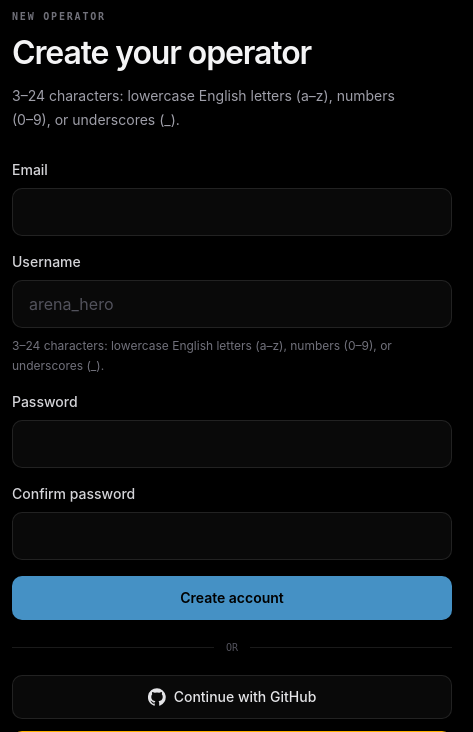
Test: password confirmation › requires matching passwords when registering
Type "player@example.com" into the field labelled "Email" at (232, 212), box 12,188 -> 452,236
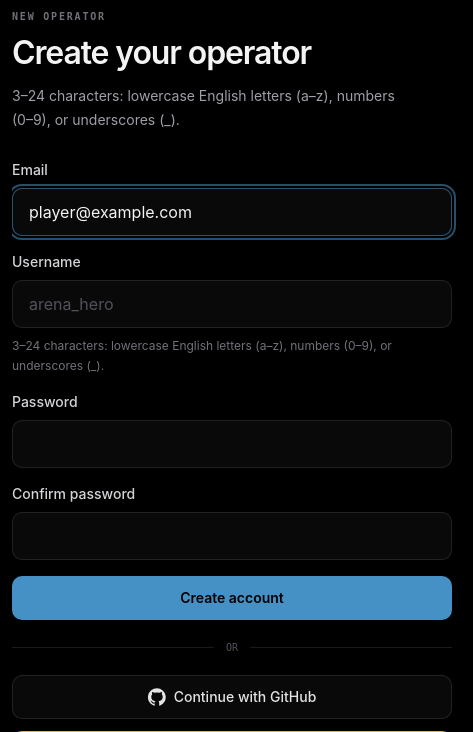
Type "player_one" into the field labelled "Username" at (232, 304), box 12,280 -> 452,328
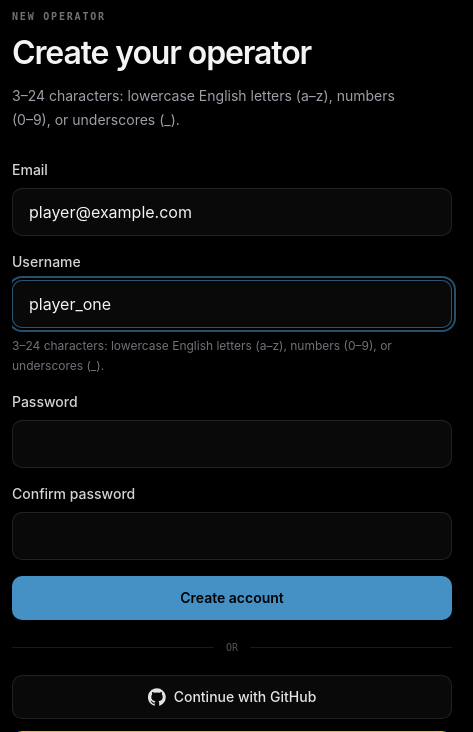
Type "correct-horse-1" into the password field labelled "Password" at (232, 444), box 12,420 -> 452,468
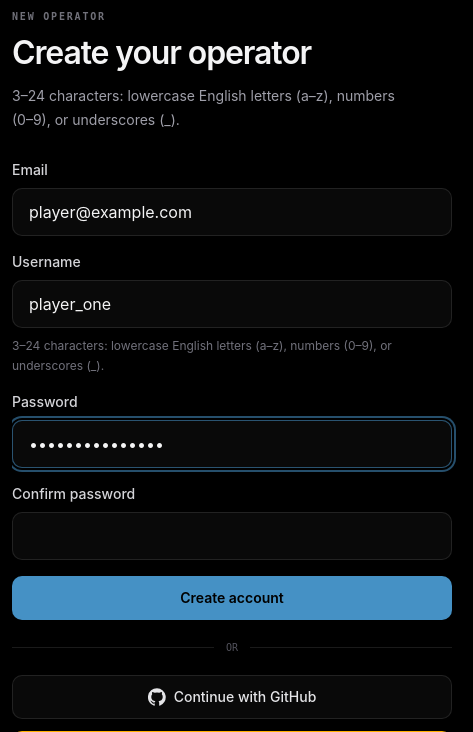
Type "correct-horse-2" into the password field labelled "Confirm password" at (232, 536), box 12,512 -> 452,560
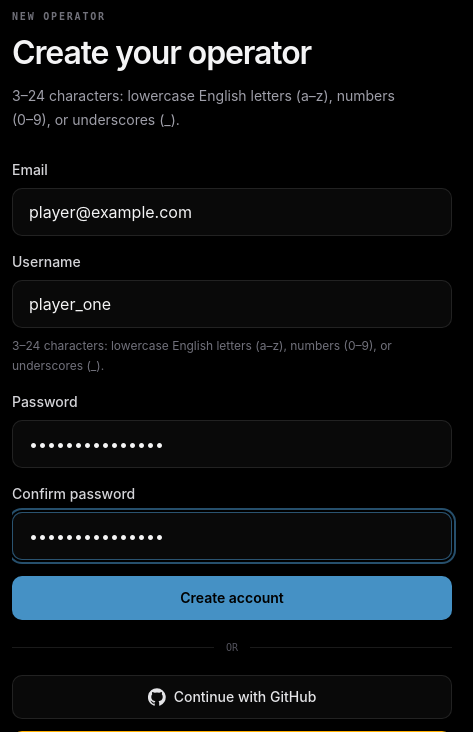
Click the button "Create account" at (232, 598), box 12,576 -> 452,620
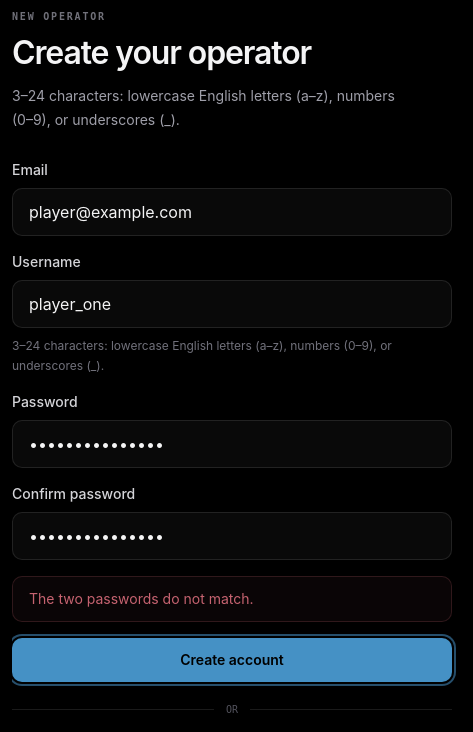
Check: the message reads "The two passwords do not match.", box 29,590 -> 254,607
